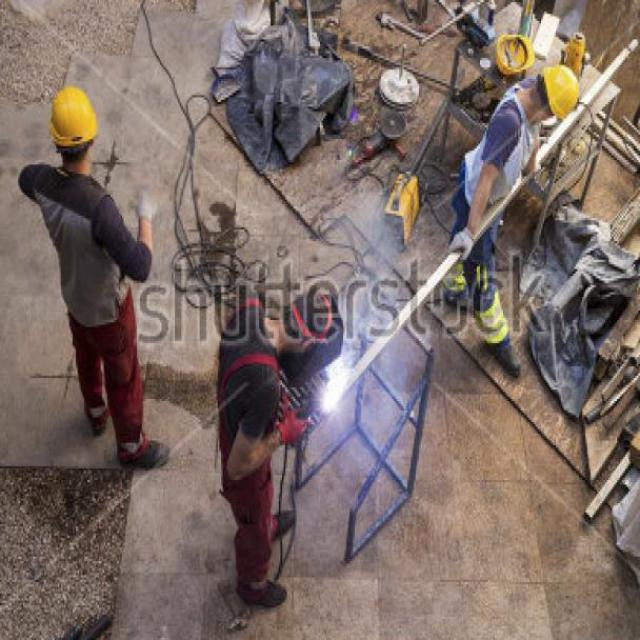gloves: (272, 404, 309, 450), (128, 184, 157, 228), (448, 226, 472, 266)
helmet: (35, 70, 107, 172), (521, 49, 593, 132)
